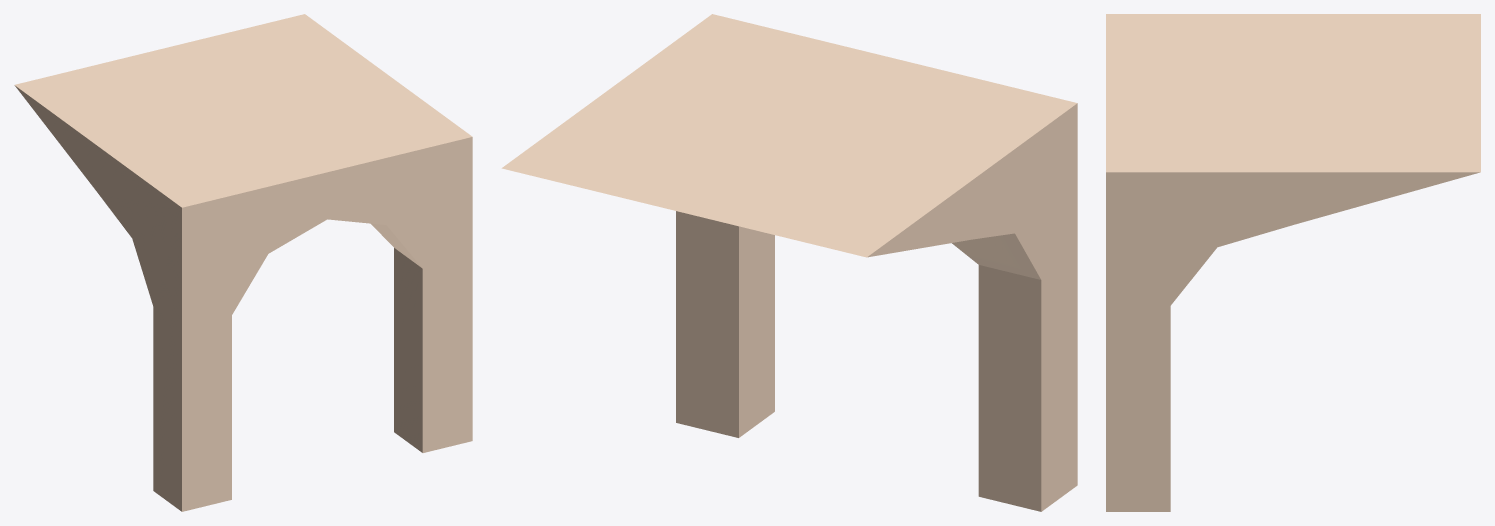
The model's file is Abstract_Modular_Archway_Support_1.0_Beige_01.fbx.
The picture shows the model from 3 angles, left to right: view 1: azimuth 30°, elevation 25°; view 2: azimuth 150°, elevation 25°; view 3: azimuth 270°, elevation 25°; orthographic projection. The views are drawn at different scales.
Parts seen in each view (by area): view 1: Abstract_Modular_Archway_Support_1.0_Beige_01; view 2: Abstract_Modular_Archway_Support_1.0_Beige_01; view 3: Abstract_Modular_Archway_Support_1.0_Beige_01.
Boxes of the visible parts, x1=… form: Abstract_Modular_Archway_Support_1.0_Beige_01: x1=14, y1=14, x2=472, y2=511; Abstract_Modular_Archway_Support_1.0_Beige_01: x1=501, y1=14, x2=1077, y2=511; Abstract_Modular_Archway_Support_1.0_Beige_01: x1=1106, y1=14, x2=1480, y2=511.
Bounding box in the file's own units: 3000 × 3000 × 3000.
